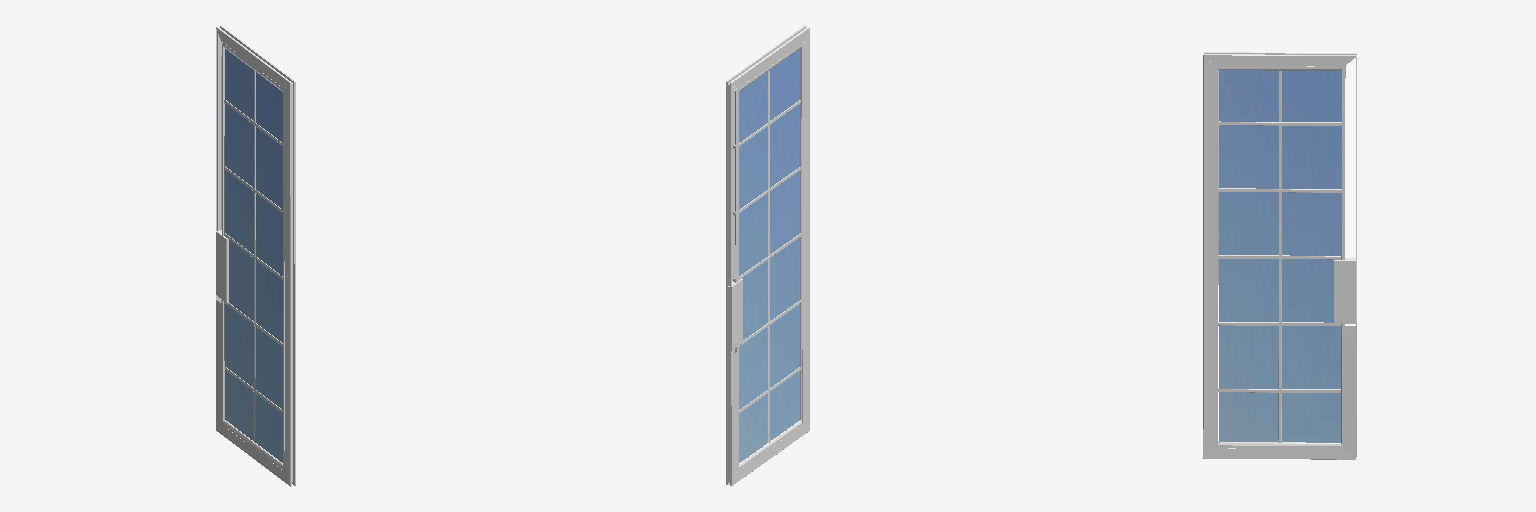
The picture shows the model from 3 angles: view 1: azimuth 30°, elevation 25°; view 2: azimuth 150°, elevation 25°; view 3: azimuth 270°, elevation 25°; orthographic projection.
Visible parts, largest first — view 1: Box2652; view 2: Box2652; view 3: Box2652.
Part boxes in pixels (bbox=[...]): Box2652: bbox=[216, 25, 295, 486]; Box2652: bbox=[726, 26, 809, 485]; Box2652: bbox=[1203, 52, 1356, 459].
Bounding box in the file's own units: 0.0186 × 0.8937 × 0.3081.
Materials: 2 (2 with a texture image).